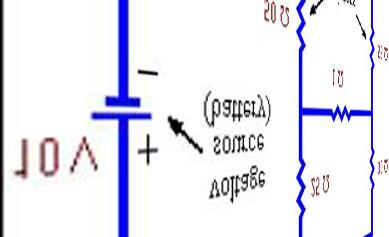resistor: (287, 153, 310, 229), (289, 0, 310, 49), (324, 99, 363, 123)
